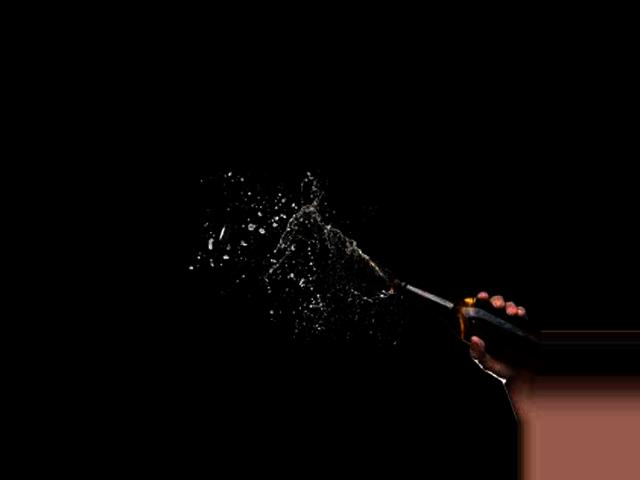beer: (393, 276, 542, 378)
